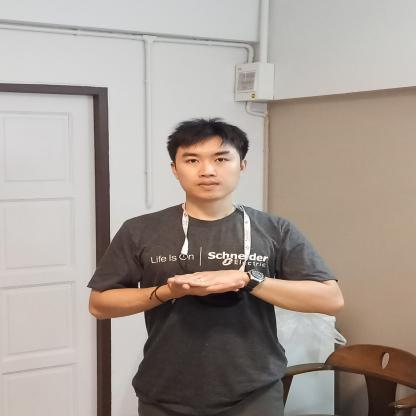Love: (144, 252, 282, 308)
